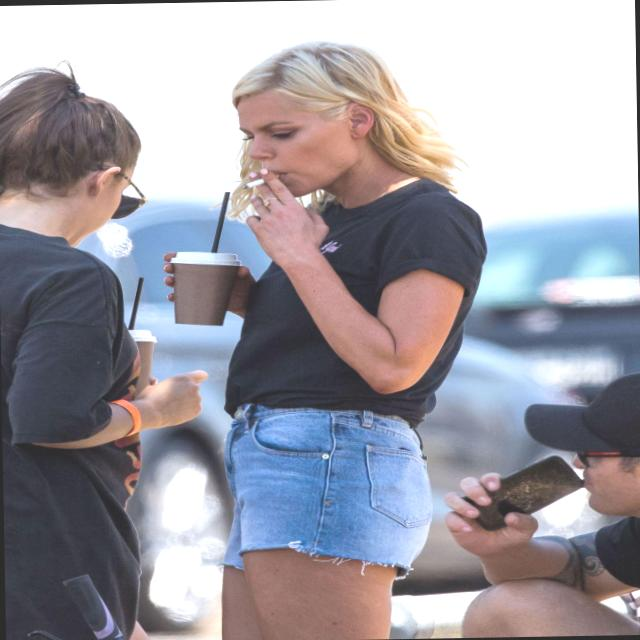cigarette: (231, 163, 283, 196)
